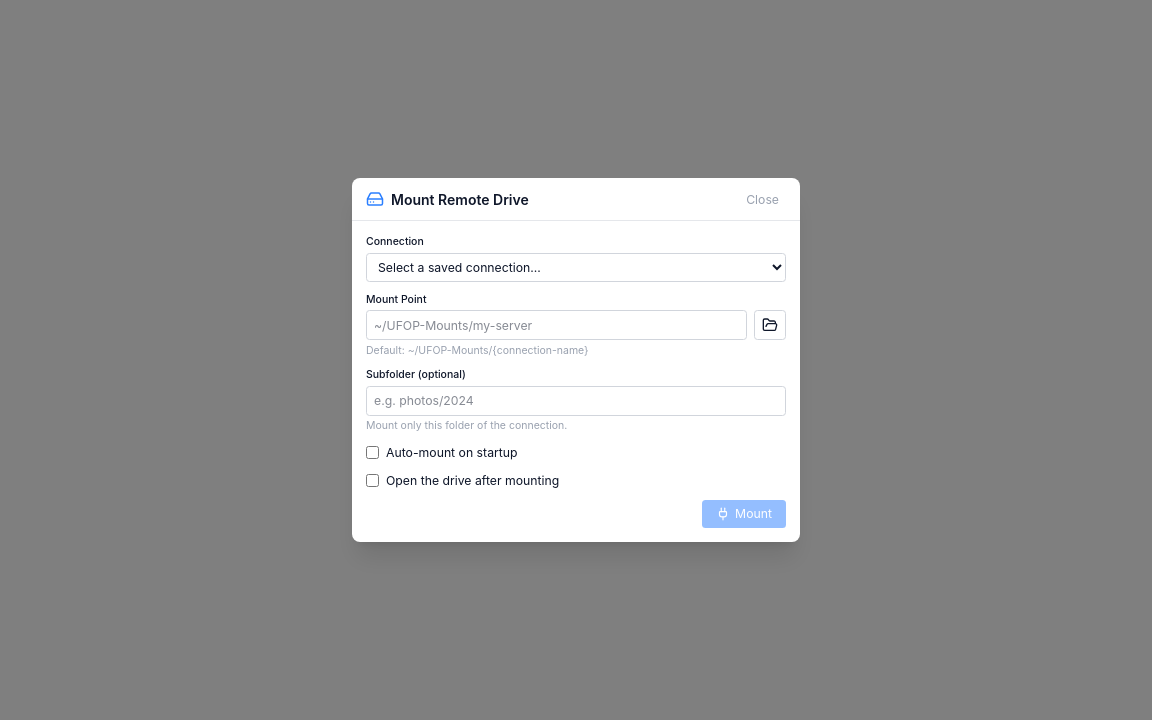
Scenario: Advanced section › is hidden in Simple mode and shown for cloud drives in Advanced mode
Step 1. Select "bucket (S3 - h)" in the dropdown labelled "Connection" → (576,268), box [366,253,786,282]
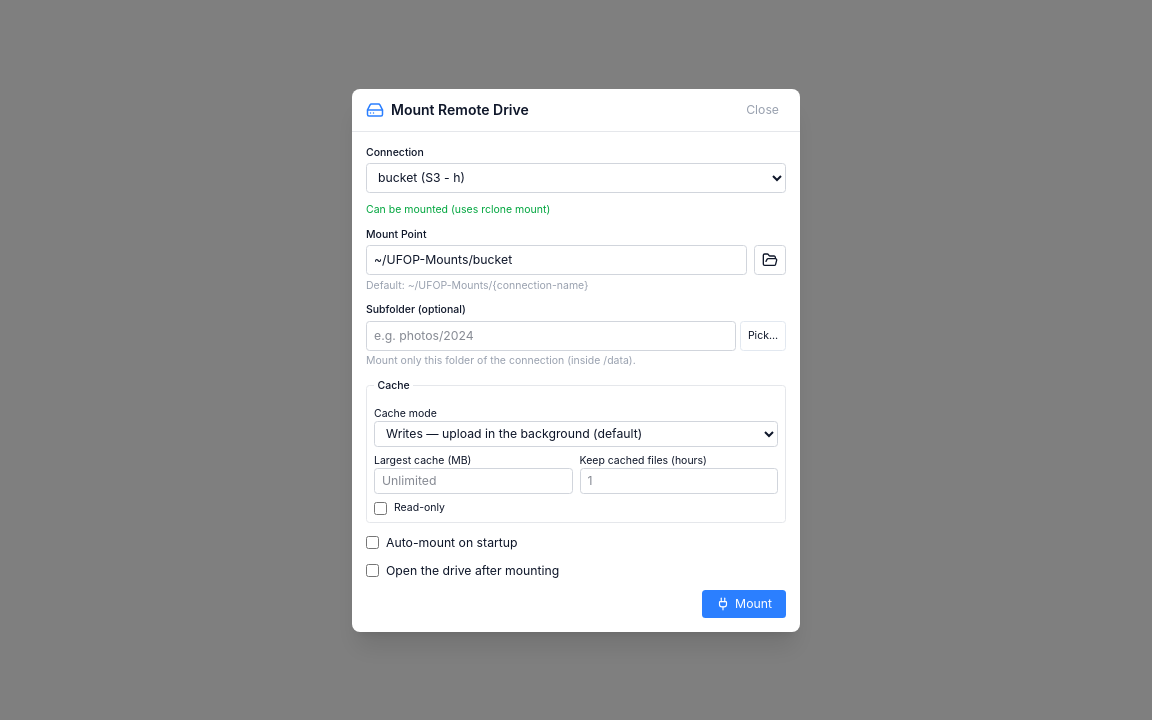
expect the text "Can be mounted (uses rclone mount)" is shown: met, box [366,203,550,216]
